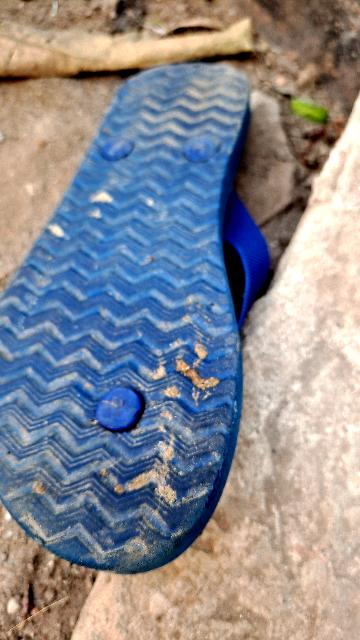sandal: (1, 59, 266, 539)
